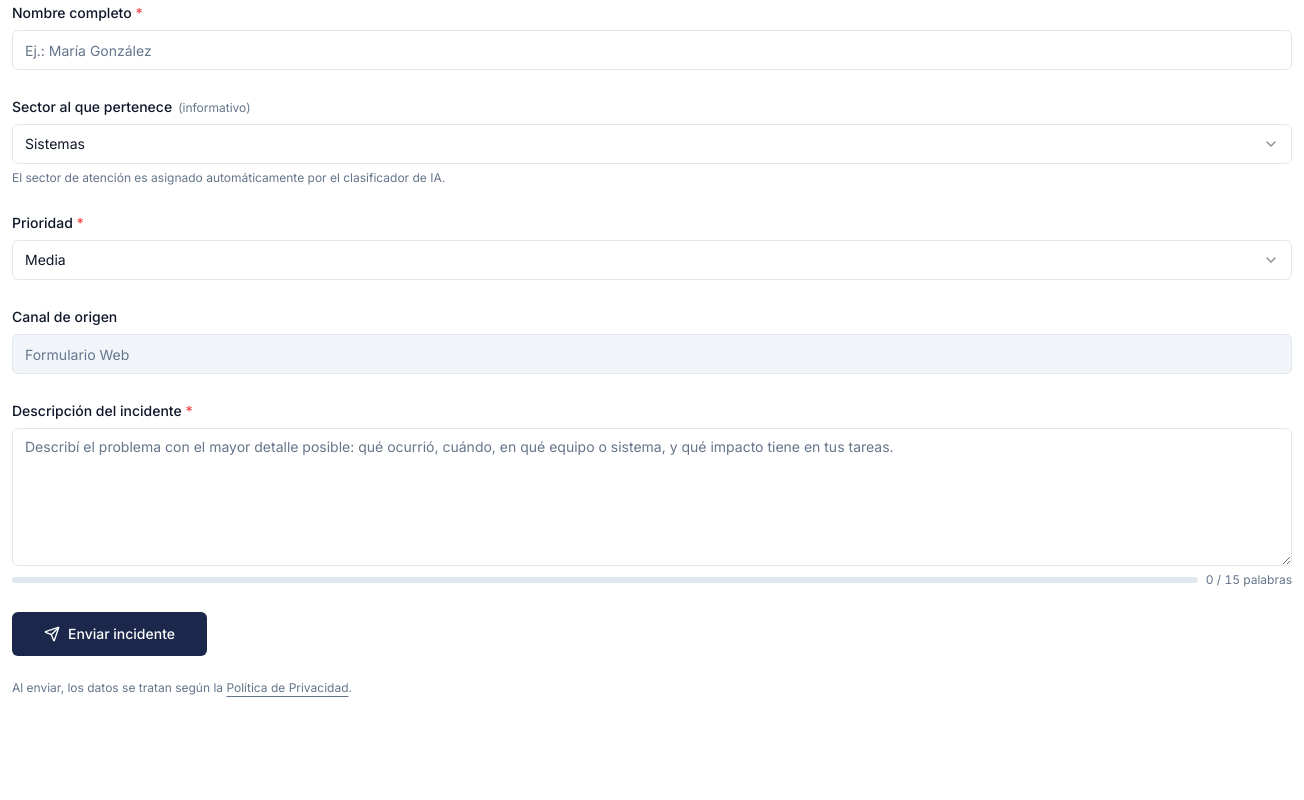
IncidenteForm › muestra error de validación y NO invoca la mutación cuando la descripción tiene menos de 15 palabras
The image size is (1304, 800).
// Completar nombre (campo requerido)
Type "María González" into the field labelled "Nombre completo *" at {"x": 652, "y": 50}, box [12,30,1292,70]
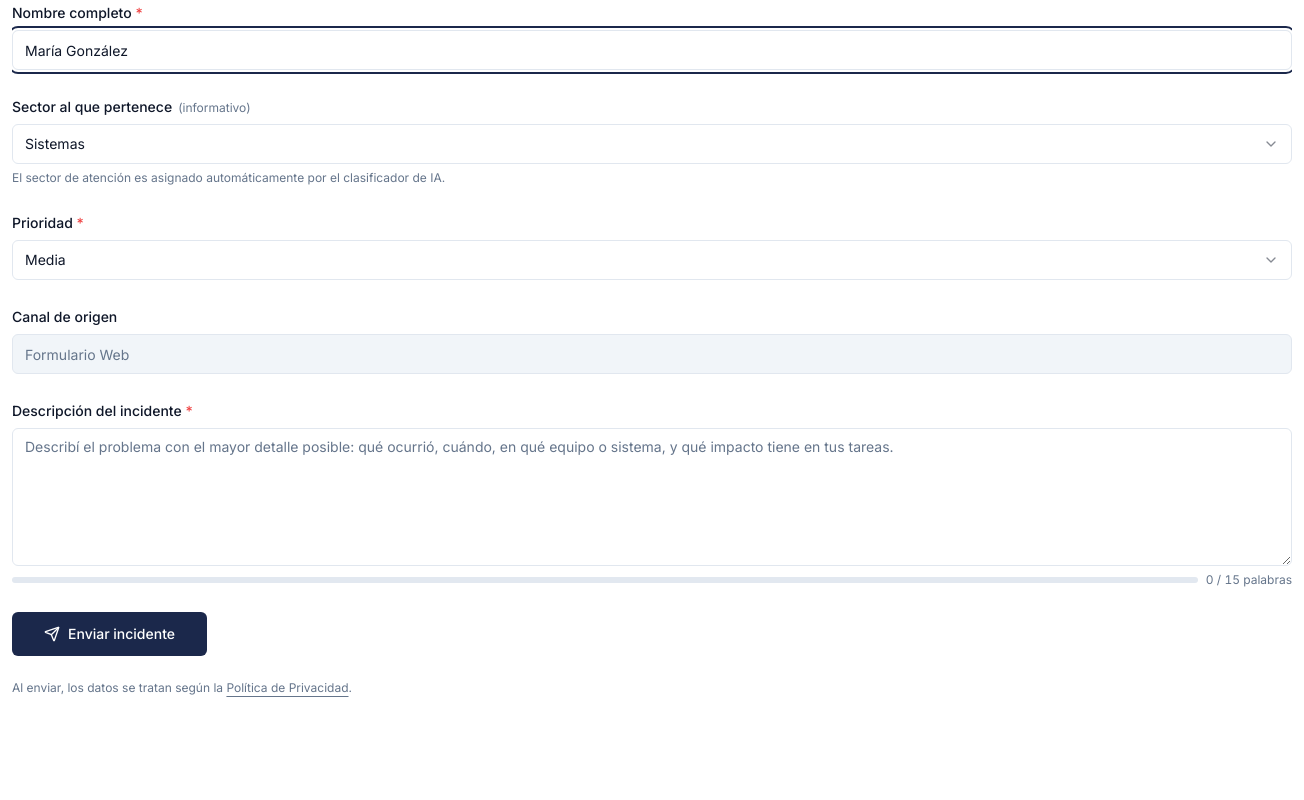
// Descripción con menos de 15 palabras (aquí son 5)
Type "El servidor no funciona hoy." into the text box labelled "Descripción del incidente *" at {"x": 652, "y": 497}, box [12,428,1292,566]
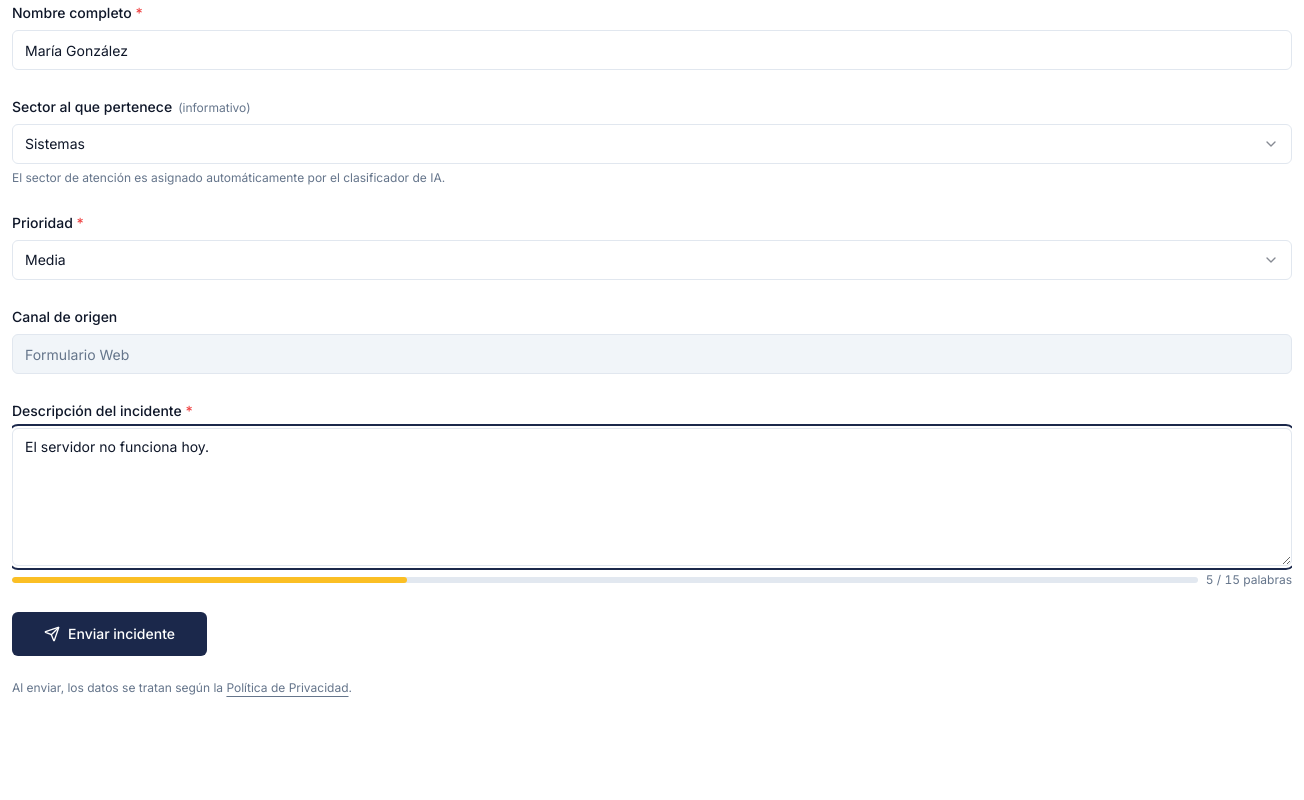
// Enviar el formulario
Click the button "Enviar incidente" at {"x": 110, "y": 634}, box [12,612,207,656]
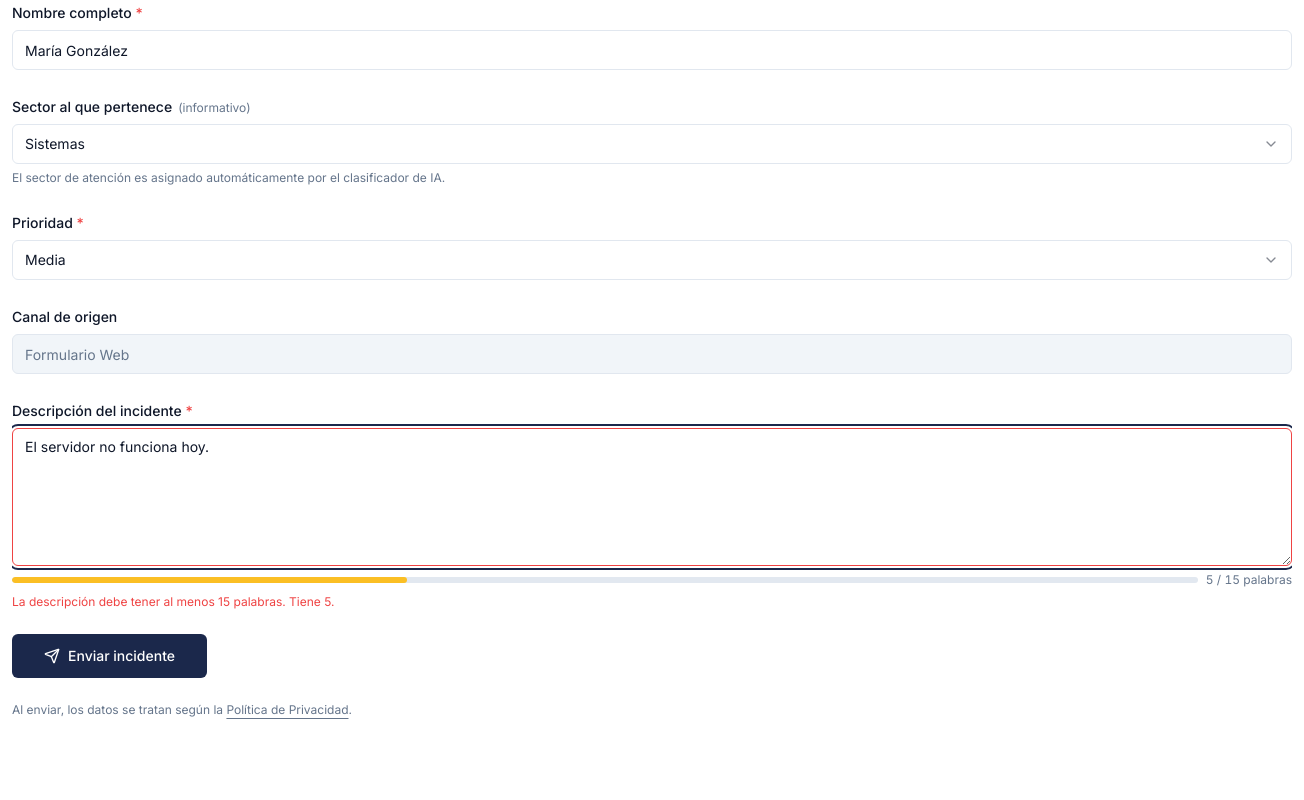
Now the text "La descripción debe tener al menos 15 palabras. Tiene 5." is shown, box [12,594,334,609]
